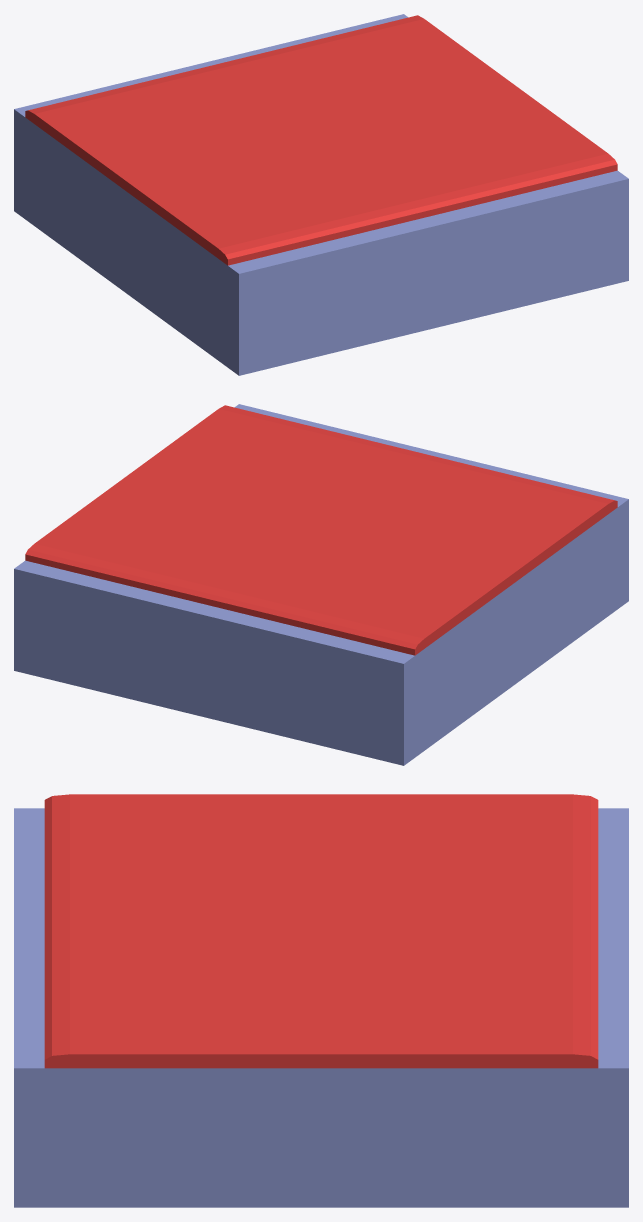
The model's file is tilePath.fbx.
3 views of the same model, one above another, from view 1: azimuth 30°, elevation 25°; view 2: azimuth 150°, elevation 25°; view 3: azimuth 270°, elevation 25° (orthographic). The views are drawn at different scales.
Visible parts, largest first — view 1: tilePath; view 2: tilePath; view 3: tilePath.
Boxes of the visible parts, left/top/right/bottom form: tilePath: left=14, top=14, right=628, bottom=375; tilePath: left=14, top=404, right=628, bottom=765; tilePath: left=14, top=794, right=628, bottom=1207.
Size of the model in its own units: 400 by 110 by 400.
